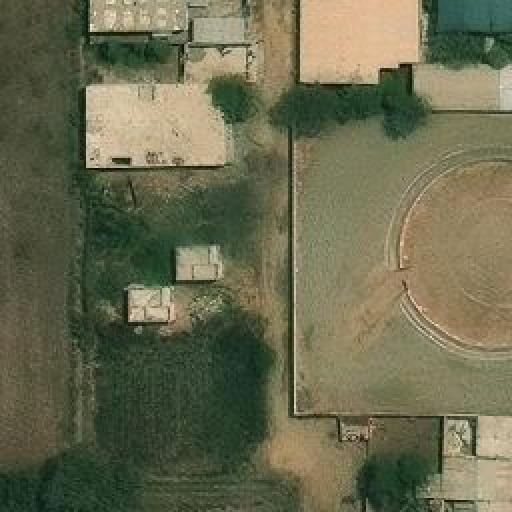manzanas: (289, 111, 510, 421), (85, 0, 257, 171), (291, 0, 510, 107), (332, 423, 510, 510), (127, 243, 219, 323)
